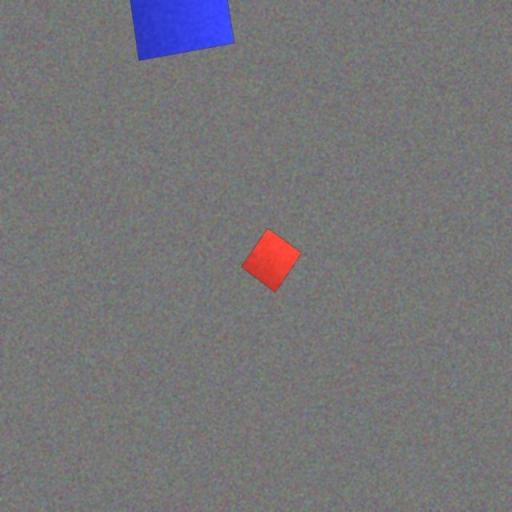BLUE_SQUARE: (125, 0, 235, 62)
RED_SQUARE: (241, 227, 302, 294)
